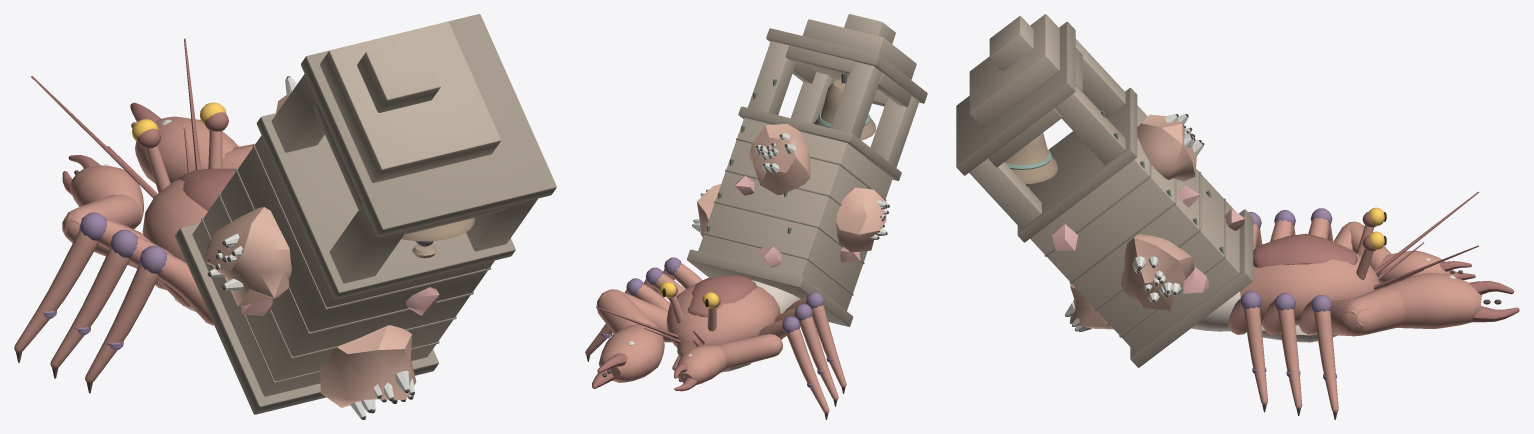
The model's file is sea_abbot.gltf.
3 views of the same model, side by side, from view 1: azimuth 30°, elevation 25°; view 2: azimuth 150°, elevation 25°; view 3: azimuth 270°, elevation 25° (orthographic). The views are drawn at different scales.
Parts seen in each view (by area): view 1: Shell, Barnacle4, Barnacle2, Body, ClawL, LegL3, ClawR, LegL1, LegL2, EyeL, EyeR, Bell; view 2: Shell, Body, ClawR, Barnacle3, ClawL, Barnacle2, LegL1, LegL2, LegL3, LegR1, Bell, LegR3 (+4 smaller); view 3: Shell, Body, ClawR, Barnacle1, Barnacle3, ClawL, LegR3, LegR2, LegR1, Bell, Barnacle4, EyeR (+3 smaller).
Part boxes in pixels (x1,y1,x2,y2): Shell: (175,14,556,414); Barnacle4: (320,325,416,419); Barnacle2: (205,207,291,306); Body: (31,38,235,262); ClawL: (62,155,143,267); LegL3: (85,245,214,393); ClawR: (130,102,252,183); LegL1: (14,212,165,362); LegL2: (50,229,192,378); EyeL: (132,119,170,192); EyeR: (200,102,228,168); Bell: (401,218,474,241); Shell: (687,14,927,326); Body: (596,274,800,370); ClawR: (592,289,671,388); Barnacle3: (748,123,810,195); ClawL: (674,334,782,391); Barnacle2: (836,187,889,252); LegL1: (758,316,829,419); LegL2: (774,303,838,406); LegL3: (784,292,846,393); LegR1: (585,278,670,361); Bell: (814,73,875,140); LegR3: (655,257,702,297); Shell: (956,14,1253,367); Body: (1191,191,1478,331); ClawR: (1330,273,1519,336); Barnacle1: (1121,234,1194,310); Barnacle3: (1137,114,1204,181); ClawL: (1333,221,1475,283); LegR3: (1228,291,1267,412); LegR2: (1262,293,1302,415); LegR1: (1298,295,1338,419); Bell: (1005,133,1058,184); Barnacle4: (1065,283,1113,331); EyeR: (1356,231,1386,279).
Size of the model in its own units: 7.05 by 7.67 by 12.36.
